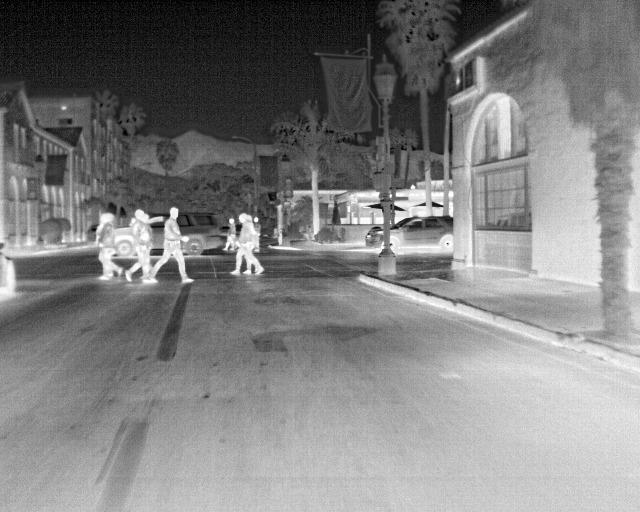bicycle: (389, 212, 455, 255), (177, 211, 222, 256), (0, 245, 20, 299), (362, 229, 384, 248)
empty: (149, 207, 197, 286), (227, 208, 267, 276), (95, 212, 125, 281), (124, 212, 153, 282), (222, 218, 238, 254), (251, 213, 262, 252)
